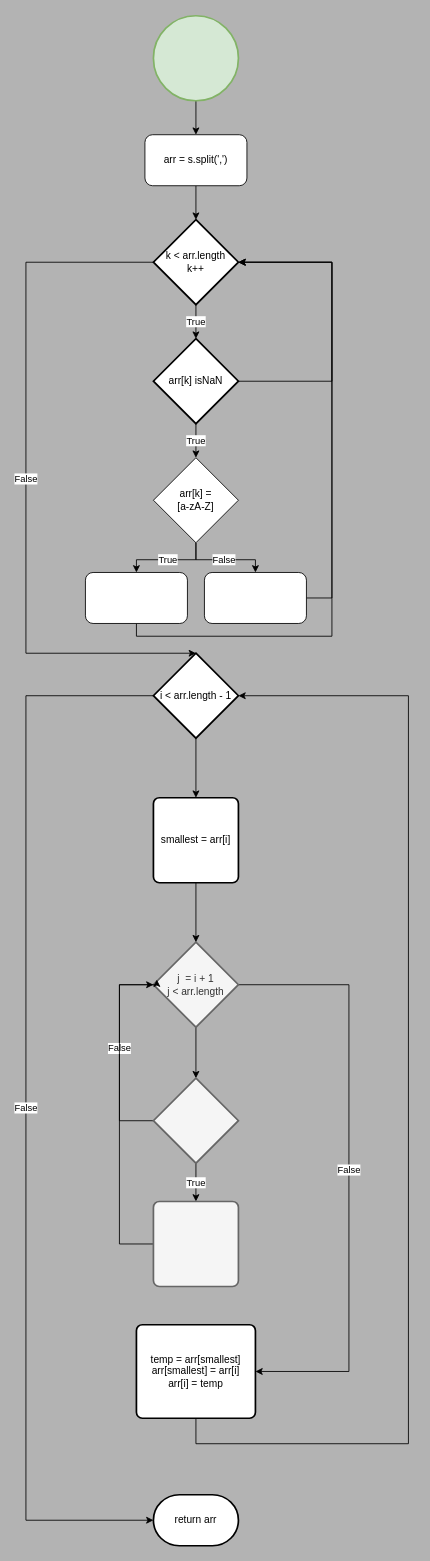
This 430x1561 diagram has some shape labels left out. Here are the shapes that lost their labels. From the top down, the centre of each, then its label:
(x=195, y=57): selectionSort(s)
(x=136, y=597): arr[k] = arr[k].charCodeAt(0)
(x=255, y=597): Continue
(x=195, y=1120): j < i
(x=195, y=1243): smallest = j
